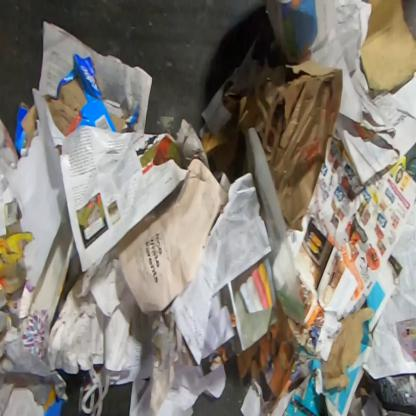cardboard: (200, 57, 343, 232), (265, 251, 406, 415), (44, 53, 141, 137), (359, 0, 415, 99), (0, 230, 36, 272), (13, 101, 39, 154)
soft_plastic: (0, 115, 20, 197)
